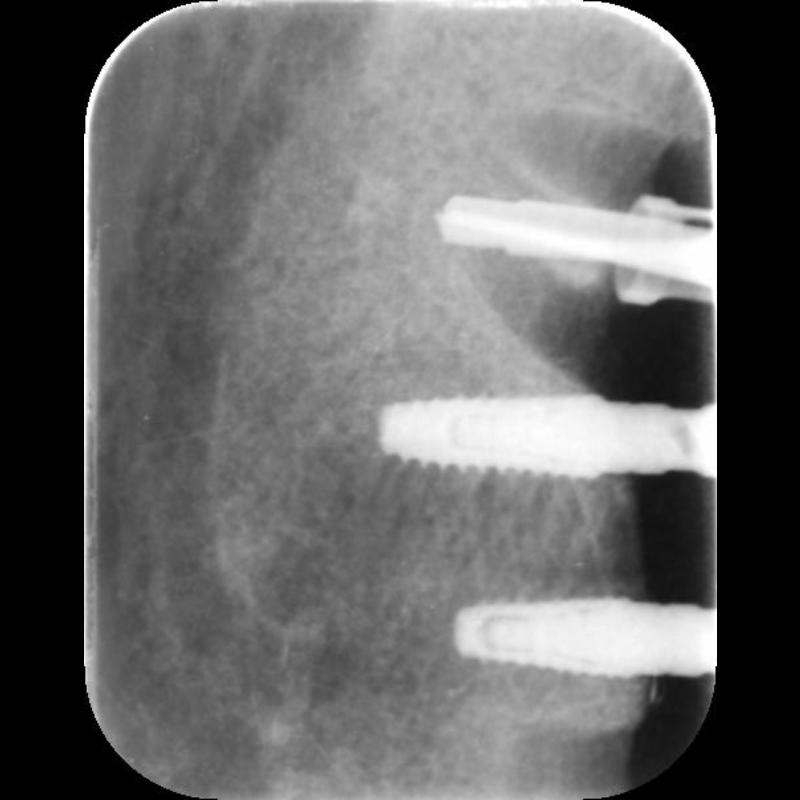Dentium: (372, 386, 610, 481), (446, 588, 638, 682)
